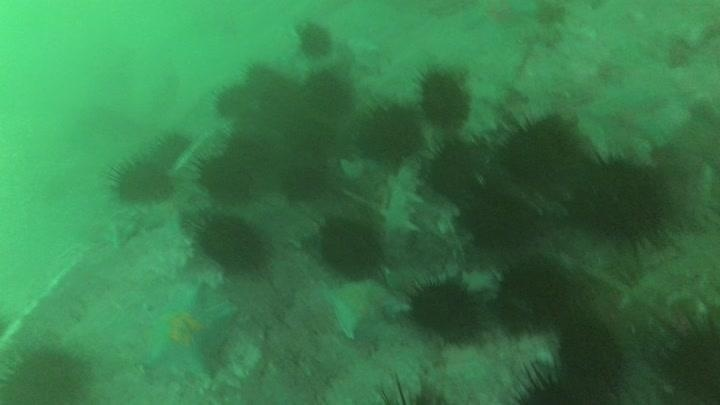echinus: (568, 150, 676, 250), (497, 111, 585, 193), (492, 257, 572, 334), (658, 303, 719, 403), (2, 341, 93, 404), (505, 355, 619, 404), (460, 184, 539, 253), (407, 277, 487, 344), (555, 314, 627, 387), (193, 211, 271, 274), (315, 214, 387, 280), (355, 101, 425, 166), (423, 138, 488, 203), (414, 65, 474, 129), (195, 149, 260, 205), (109, 153, 175, 206), (221, 130, 279, 187), (301, 68, 355, 120), (372, 371, 453, 405), (280, 159, 331, 202), (241, 60, 288, 101), (254, 84, 301, 125), (211, 80, 257, 121), (149, 129, 193, 169), (294, 19, 335, 60), (532, 1, 570, 29)
holothurian: (378, 158, 425, 244)
starfish: (138, 281, 239, 379), (578, 79, 670, 157), (316, 276, 408, 341), (85, 212, 142, 251), (457, 264, 504, 298)
